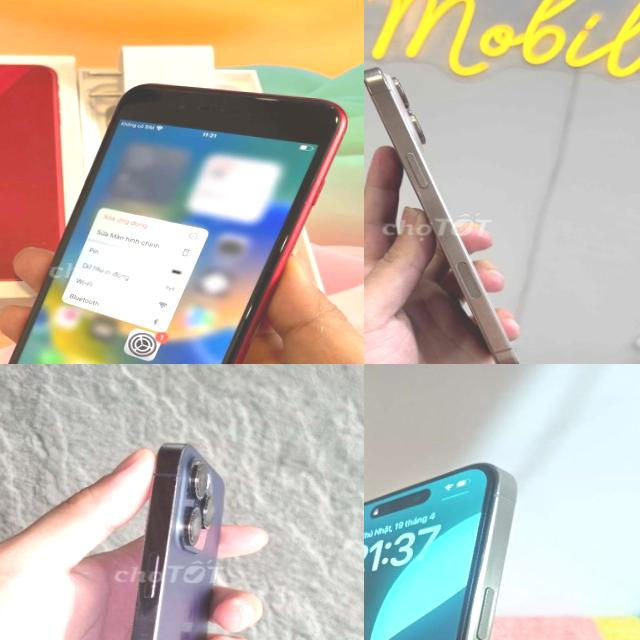gen_14: (88, 428, 230, 640)
gen_15: (364, 443, 507, 640)
gen_16: (364, 56, 550, 364)
gen_7_8: (0, 78, 347, 364)
